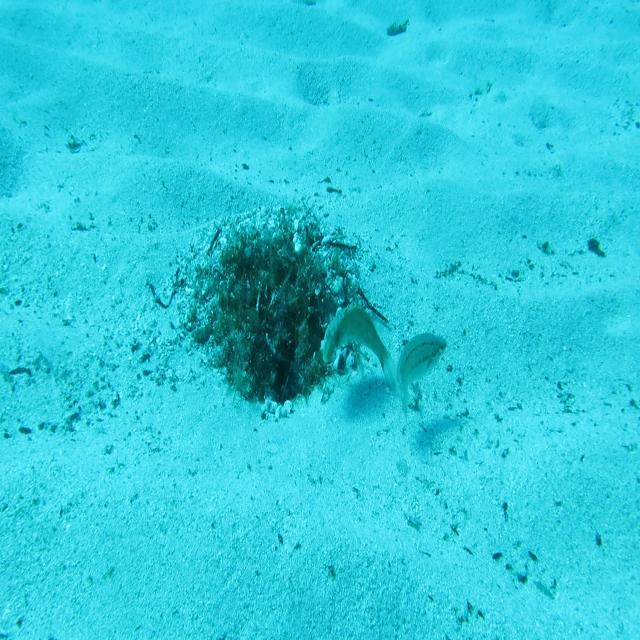BEND: (319, 299, 399, 396)
core_nest: (246, 249, 298, 282)
female: (396, 330, 450, 425)
nest: (168, 193, 376, 435)
vegetation: (382, 18, 412, 38)
